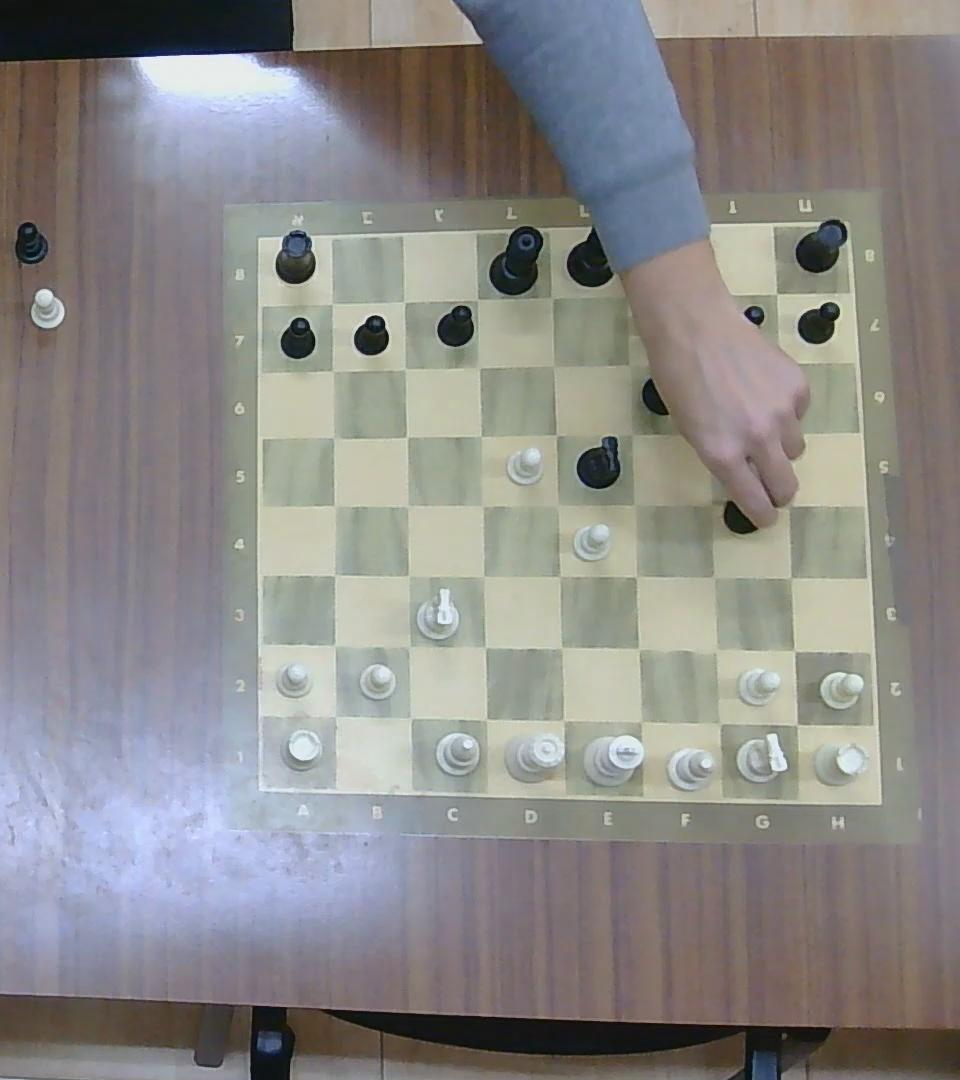xcorner: (621, 631, 654, 664), (777, 633, 810, 666), (703, 705, 735, 739), (624, 703, 656, 737), (545, 631, 577, 664), (468, 630, 500, 662), (780, 706, 812, 738), (470, 702, 501, 734), (547, 704, 578, 736), (699, 634, 731, 665), (319, 699, 350, 731), (393, 701, 424, 732), (775, 561, 806, 592), (319, 628, 349, 660), (468, 561, 498, 592), (621, 561, 651, 592), (698, 561, 728, 592), (691, 280, 722, 310), (393, 631, 423, 661), (544, 560, 574, 590), (393, 560, 423, 590), (692, 350, 721, 381), (467, 489, 496, 519), (616, 419, 646, 448), (463, 284, 492, 313), (320, 560, 348, 590), (320, 490, 349, 518), (543, 490, 572, 518), (317, 289, 345, 318), (698, 488, 726, 517), (621, 490, 650, 518), (616, 350, 645, 378), (614, 282, 642, 311), (393, 490, 421, 518), (776, 490, 804, 518), (538, 284, 566, 312), (465, 420, 494, 447), (771, 419, 798, 448), (318, 421, 345, 449), (318, 355, 345, 383), (543, 420, 571, 447), (392, 421, 419, 448), (465, 352, 491, 379), (390, 287, 416, 313), (390, 355, 416, 380), (540, 353, 566, 378), (765, 280, 790, 306), (767, 350, 793, 375), (695, 421, 720, 446)
